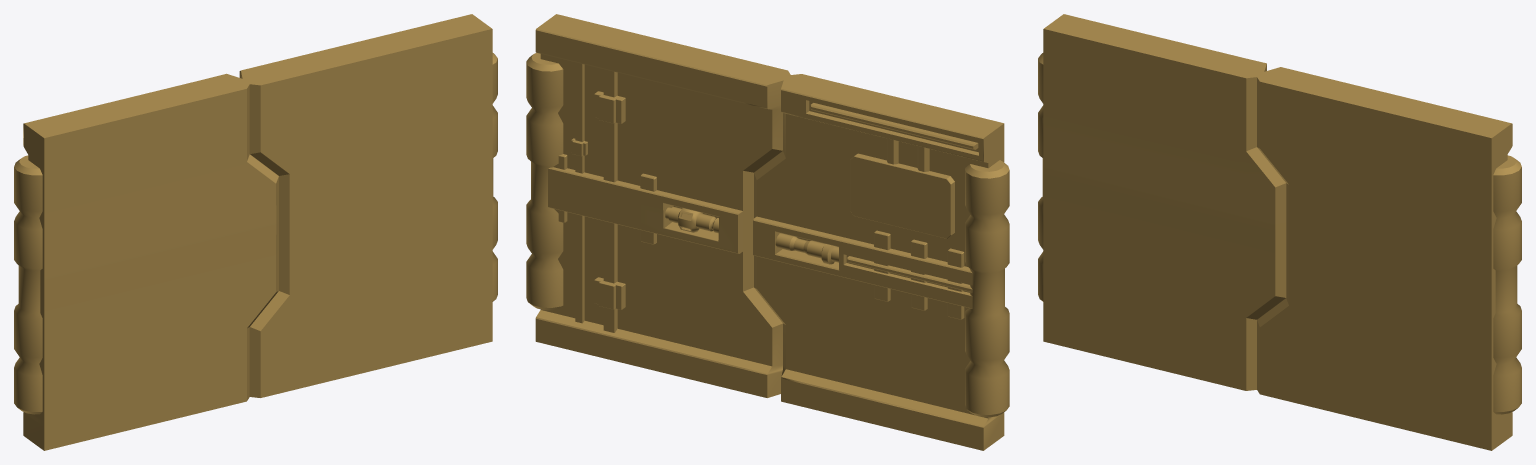
The model's file is Puertota.fbx.
The picture shows the model from 3 angles, left to right: view 1: azimuth 30°, elevation 25°; view 2: azimuth 150°, elevation 25°; view 3: azimuth 330°, elevation 25°; orthographic projection.
Parts seen in each view (by area): view 1: polySurface3, polySurface4; view 2: polySurface4, polySurface3; view 3: polySurface4, polySurface3.
Part boxes in pixels (left/top/right/bottom): polySurface3: left=14, top=73, right=278, bottom=450; polySurface4: left=239, top=14, right=497, bottom=397; polySurface4: left=526, top=14, right=790, bottom=397; polySurface3: left=753, top=74, right=1009, bottom=450; polySurface4: left=1257, top=67, right=1521, bottom=450; polySurface3: left=1038, top=14, right=1286, bottom=390.
Size of the model in its own units: 32.78 by 20.5 by 2.79.
